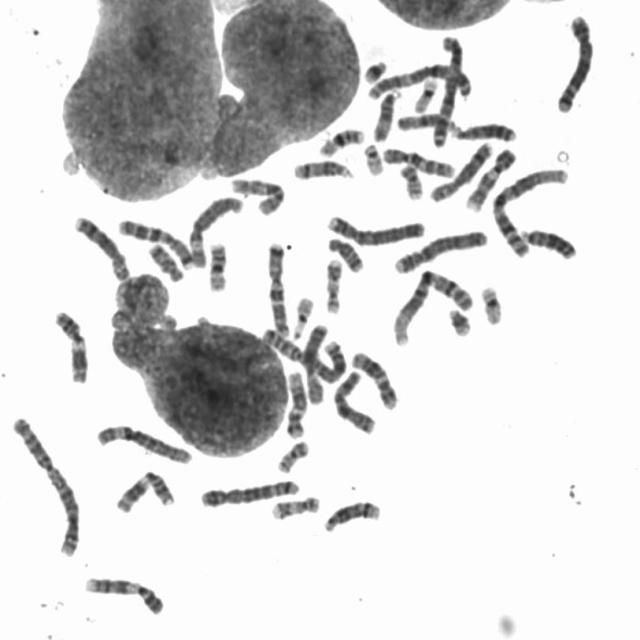A1: (486, 161, 572, 259), (386, 262, 476, 346)
A2: (6, 410, 83, 559), (256, 321, 348, 384)
A3: (362, 56, 477, 102), (427, 28, 466, 149)
B4: (389, 223, 490, 275), (320, 206, 428, 246)
B5: (549, 7, 596, 115), (195, 472, 302, 508)
C10: (377, 140, 457, 180), (225, 170, 287, 217)
C11: (48, 303, 91, 385), (110, 464, 177, 514)
C12: (345, 344, 400, 411), (280, 365, 310, 439)
C6: (90, 416, 194, 466), (183, 189, 246, 270)
C7: (112, 212, 198, 270), (261, 234, 292, 338)
C8: (423, 134, 494, 203), (68, 208, 132, 282)
C9: (459, 141, 519, 213), (79, 570, 166, 617)
D13: (516, 220, 580, 262), (446, 115, 518, 144)
D14: (318, 494, 383, 534), (286, 152, 356, 182)
D15: (367, 84, 402, 142), (392, 107, 461, 135)
E16: (313, 121, 366, 158), (202, 235, 230, 293)
E17: (265, 488, 323, 522), (319, 252, 345, 316)
E18: (142, 237, 186, 283), (321, 230, 366, 274)
F19: (475, 279, 505, 326), (409, 72, 440, 113)
F20: (272, 434, 312, 474), (394, 157, 426, 201)
G21: (442, 300, 474, 338), (357, 52, 390, 84)
G22: (286, 289, 316, 340), (358, 137, 386, 177)
X: (326, 365, 378, 435), (298, 318, 330, 406)
